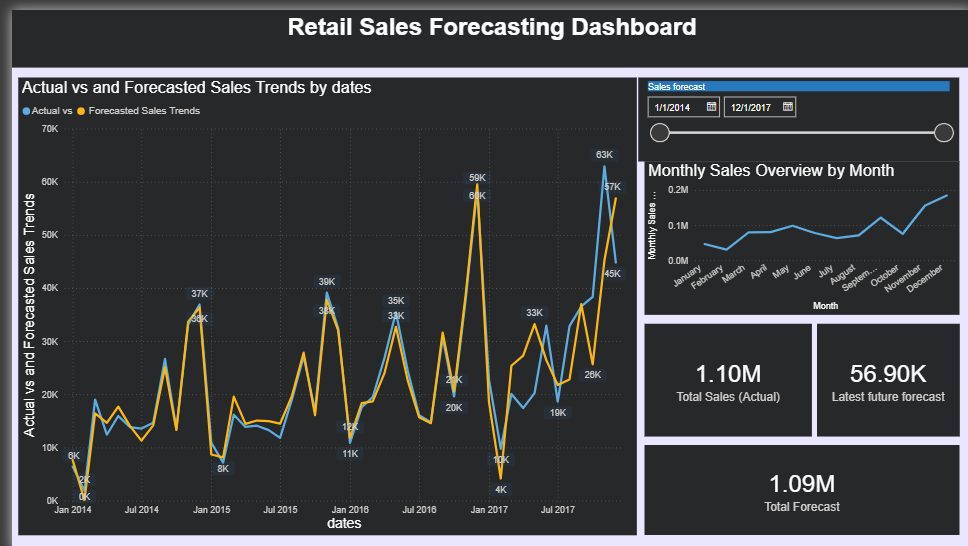

This screenshot's page, from the dashboard's own definition file:
{"tool":"powerbi","page":{"name":"Page 1","canvas":[1280,720],"ordinal":0},"visuals":[{"type":"lineChart","fields":{"Category":["monthly_sales.ds"],"Y":["Sum(monthly_sales.y)","Sum(sales_forecast.yhat)"]},"box":[7.5,90,825,610],"z":0},{"type":"card","fields":{"Values":["Sum(monthly_sales.y)"]},"box":[843.3,418.3,223.3,150],"z":1000},{"type":"slicer","fields":{"Values":["sales_forecast.ds"]},"box":[835,90,428.3,111.7],"z":2000},{"type":"card","fields":{"Values":["Sum(sales_forecast.yhat)"]},"box":[1073.3,418.3,190,150],"z":3000},{"type":"textbox","box":[0,0,1280,76.7],"z":4000},{"type":"lineChart","fields":{"Category":["sales_forecast.ds.Variation.Date Hierarchy.Year","sales_forecast.ds.Variation.Date Hierarchy.Quarter","sales_forecast.ds.Variation.Date Hierarchy.Month","sales_forecast.ds.Variation.Date Hierarchy.Day"],"Y":["Sum(sales_forecast.yhat)"]},"box":[843.3,201.7,420,205],"z":5000},{"type":"card","fields":{"Values":["Sum(sales_forecast.yhat)"]},"box":[843.3,580,420,120],"z":6000}]}

Visuals, with their boxes in screenshot pixels (x1, y1, x2, y2), scaled from the page's 1280x720 canvas onto the 968x546 screenshot:
lineChart - monthly_sales.ds x Sum(monthly_sales.y): bbox=[6, 68, 630, 531]
card - Sum(monthly_sales.y): bbox=[638, 317, 807, 431]
slicer - sales_forecast.ds: bbox=[631, 68, 955, 153]
card - Sum(sales_forecast.yhat): bbox=[812, 317, 955, 431]
textbox: bbox=[0, 0, 967, 58]
lineChart - sales_forecast.ds.Variation.Date Hierarchy.Year x sales_forecast.ds.Variation.Date Hierarchy.Quarter: bbox=[638, 153, 955, 308]
card - Sum(sales_forecast.yhat): bbox=[638, 440, 955, 531]
